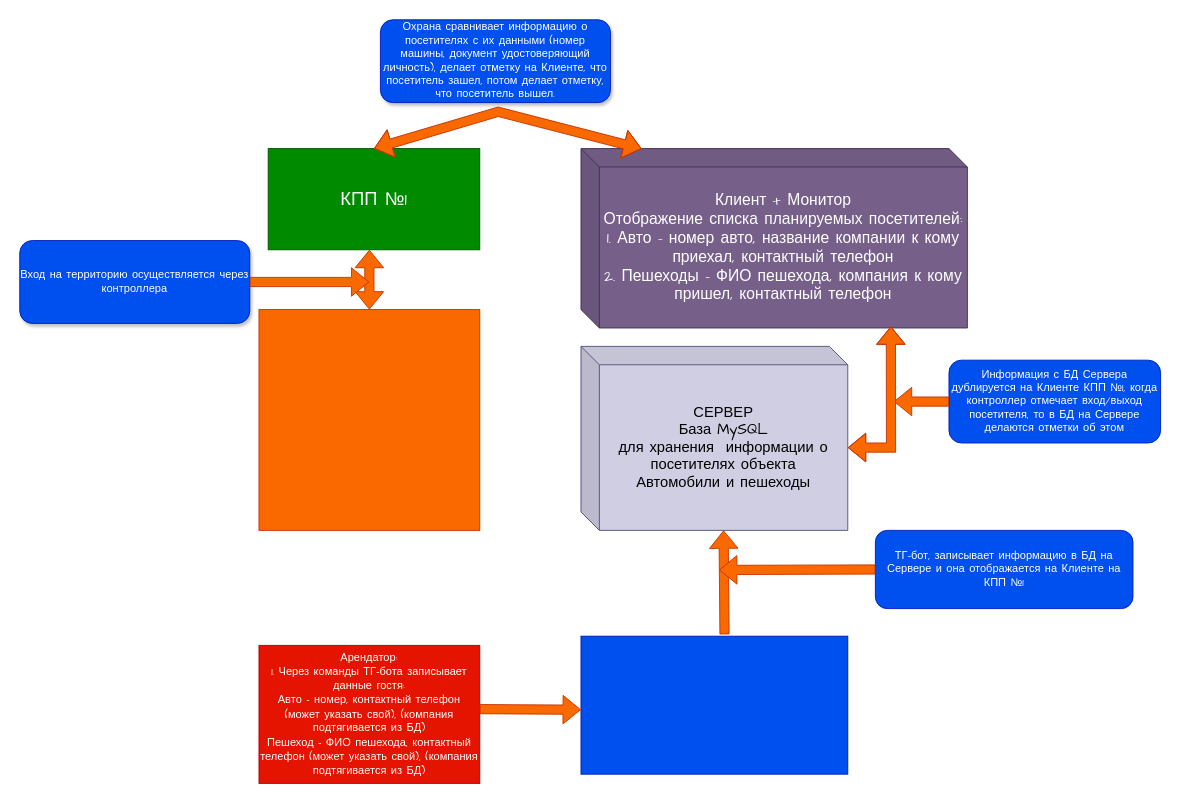
This 1177x799 diagram has some shape labels left out. The shapes that lost their labels are listed below. From the top down, each one's centre as x and y in pixels, then its label:
[369,419]: Территория Объекта: КС, Свободы 57Д
[714,704]: Телеграм Бот
